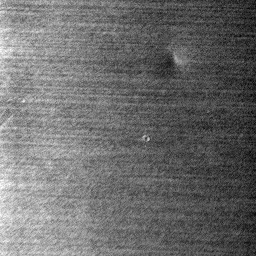dent: (158, 47, 185, 75)
